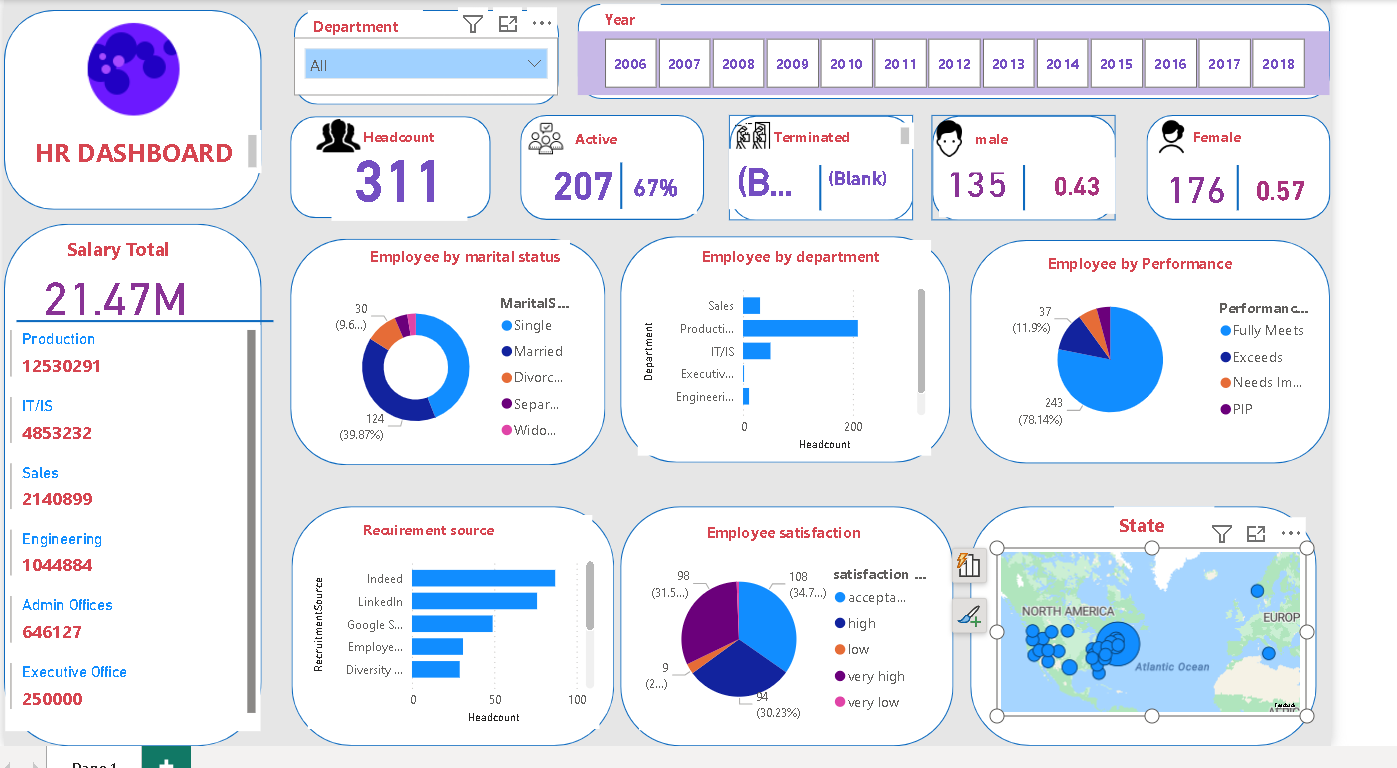

This screenshot's page, from the dashboard's own definition file:
{"tool":"powerbi","page":{"name":"Page 1","canvas":[1280,720],"ordinal":0},"visuals":[{"type":"shape","box":[0,10,248.6,192.9],"z":0},{"type":"shape","box":[0,215.7,248.6,504.3],"z":1000},{"type":"shape","box":[275.7,230,304.3,218.6],"z":2000},{"type":"shape","box":[594.3,228.6,318.6,218.6],"z":3000},{"type":"shape","box":[595,488.3,321.7,231.7],"z":4000},{"type":"shape","box":[277.1,488.6,311.4,231.4],"z":5000},{"type":"shape","box":[932.9,231.4,347.1,215.7],"z":6000},{"type":"shape","box":[932.9,488.6,334.3,231.4],"z":7000},{"type":"shape","box":[280,10,255.7,91.4],"z":8000},{"type":"shape","box":[554,4,726,92],"z":9000},{"type":"shape","box":[1102.5,111.2,177.5,101.2],"z":10000},{"type":"shape","box":[895,111.2,177.5,101.2],"z":11000},{"type":"shape","box":[700,111.2,177.5,101.2],"z":12000},{"type":"shape","box":[498.8,111.2,177.5,101.2],"z":13000},{"type":"shape","box":[276.7,111.7,193.3,98.3],"z":14000},{"type":"image","box":[61.7,8.3,126.7,116.7],"z":15000},{"type":"textbox","box":[25,125,223.3,41.7],"z":16000},{"type":"textbox","box":[292.9,10,111.4,30],"z":17000},{"type":"slicer","fields":{"Values":["HRData (2).Department"]},"box":[280,36.7,255,55],"z":18000},{"type":"textbox","box":[341.1,117.8,97.8,32.2],"z":19000},{"type":"textbox","box":[546.7,120,65.6,34.4],"z":20000},{"type":"card","fields":{"Values":["All measures.Active"]},"box":[523.3,146.7,71.7,58.3],"z":21000},{"type":"card","fields":{"Values":["All measures.active %"]},"box":[588.3,155,80,51.7],"z":22000},{"type":"textbox","box":[738.6,118.6,140,25.7],"z":23000},{"type":"textbox","box":[932.9,120,51.4,28.6],"z":24000},{"type":"textbox","box":[1142.9,118.6,60,30],"z":25000},{"type":"shape","box":[568.3,156.7,55,45],"z":26000},{"type":"card","fields":{"Values":["All measures.terminated %"]},"box":[788.3,145,73.3,56.7],"z":27000},{"type":"card","fields":{"Values":["All measures.MALE %"]},"box":[1000,151.4,72.9,54.3],"z":28000},{"type":"card","fields":{"Values":["All measures.FEMALE %"]},"box":[1196.7,161.7,71.7,43.3],"z":29000},{"type":"shape","box":[770,158.8,36.2,43.8],"z":30000},{"type":"shape","box":[966.2,158.8,36.2,43.8],"z":31000},{"type":"shape","box":[1172.5,158.8,36.2,43.8],"z":32000},{"type":"card","fields":{"Values":["All measures.male"]},"box":[902,162,74,48],"z":33000},{"type":"card","fields":{"Values":["All measures.FEMALE"]},"box":[1113.3,158.3,73.3,45],"z":34000},{"type":"donutChart","fields":{"Y":["All measures.Headcount"],"Category":["HRData (2).MaritalStatus"]},"box":[311.4,268.6,242.9,171.4],"z":35000},{"type":"textbox","box":[348.8,231.2,197.5,37.5],"z":36000},{"type":"textbox","box":[668.8,231.2,226.2,41.2],"z":37000},{"type":"textbox","box":[1002.5,238.8,208.8,30],"z":38000},{"type":"clusteredBarChart","fields":{"Y":["All measures.Headcount"],"Category":["HRData (2).Department"]},"box":[611.4,265.7,282.9,174.3],"z":39000},{"type":"pieChart","fields":{"Y":["All measures.Headcount"],"Category":["HRData (2).PerformanceScore"]},"box":[958.3,273.3,310,146.7],"z":40000},{"type":"textbox","box":[341.2,497.5,226.2,30],"z":41000},{"type":"clusteredBarChart","fields":{"Y":["All measures.Headcount"],"Category":["HRData (2).RecruitmentSource"]},"box":[293.3,528.3,281.7,175],"z":42000},{"type":"textbox","box":[673.3,498.3,205,30],"z":43000},{"type":"pieChart","fields":{"Y":["All measures.Headcount"],"Series":["HRData (2).satisfaction status"]},"box":[613.3,530,283.3,175],"z":44000},{"type":"textbox","box":[1071.7,488.3,96.7,40],"z":45000},{"type":"map","fields":{"Size":["All measures.Headcount"],"Category":["HRData (2).State"]},"box":[958.3,528.3,298.3,163.3],"z":46000},{"type":"card","fields":{"Values":["All measures.salary"]},"box":[11.7,253.3,190,60],"z":47000},{"type":"shape","box":[11.7,280,248.3,60],"z":48000},{"type":"multiRowCard","fields":{"Values":["All measures.salary","HRData (2).Department"]},"box":[1.7,313.3,246.7,391.7],"z":49000},{"type":"textbox","box":[575,3.3,58.3,30],"z":50000},{"type":"slicer","fields":{"Values":["HRData (2).Hiring Year"]},"box":[554.3,30,725.7,61.4],"z":51000},{"type":"card","fields":{"Values":["All measures.Headcount"]},"box":[315.7,145.7,131.4,67.1],"z":52000},{"type":"textbox","box":[55,221.7,140,43.3],"z":53000},{"type":"image","box":[1102.9,95.7,48.6,71.4],"z":54000},{"type":"image","box":[884.3,110,55.7,48.6],"z":55000},{"type":"image","box":[700,108.6,45.7,51.4],"z":56000},{"type":"card","fields":{"Values":["All measures.Terminated"]},"box":[700,143.3,70,58.3],"z":57000},{"type":"image","box":[498.9,111.1,47.8,46.7],"z":58000},{"type":"image","box":[296.7,104.4,52.2,53.3],"z":59000}]}

Visuals, with their boxes in screenshot pixels (x1, y1, x2, y2), scaled from the page's 1280x720 canvas onto the 1397x768 screenshot:
shape: 0/11/271/216
shape: 0/230/271/767
shape: 301/245/633/479
shape: 649/244/996/477
shape: 649/521/1000/767
shape: 302/521/642/767
shape: 1018/247/1396/477
shape: 1018/521/1383/767
shape: 306/11/585/108
shape: 605/4/1396/102
shape: 1203/119/1396/227
shape: 977/119/1171/227
shape: 764/119/958/227
shape: 544/119/738/227
shape: 302/119/513/224
image: 67/9/206/133
textbox: 27/133/271/178
textbox: 320/11/441/43
slicer - HRData (2).Department: 306/39/584/98
textbox: 372/126/479/160
textbox: 597/128/668/165
card - All measures.Active: 571/156/649/219
card - All measures.active %: 642/165/729/220
textbox: 806/127/959/154
textbox: 1018/128/1074/159
textbox: 1247/127/1313/159
shape: 620/167/680/215
card - All measures.terminated %: 860/155/940/215
card - All measures.MALE %: 1091/161/1171/219
card - All measures.FEMALE %: 1306/172/1384/219
shape: 840/169/880/216
shape: 1055/169/1094/216
shape: 1280/169/1319/216
card - All measures.male: 984/173/1065/224
card - All measures.FEMALE: 1215/169/1295/217
donutChart - All measures.Headcount x HRData (2).MaritalStatus: 340/287/605/469
textbox: 381/247/596/287
textbox: 730/247/977/291
textbox: 1094/255/1322/287
clusteredBarChart - All measures.Headcount x HRData (2).Department: 667/283/976/469
pieChart - All measures.Headcount x HRData (2).PerformanceScore: 1046/292/1384/448
textbox: 372/531/619/563
clusteredBarChart - All measures.Headcount x HRData (2).RecruitmentSource: 320/564/628/750
textbox: 735/532/959/564
pieChart - All measures.Headcount x HRData (2).satisfaction status: 669/565/979/752
textbox: 1170/521/1275/564
map - All measures.Headcount x HRData (2).State: 1046/564/1371/738
card - All measures.salary: 13/270/220/334
shape: 13/299/284/363
multiRowCard - All measures.salary x HRData (2).Department: 2/334/271/752
textbox: 628/4/691/36
slicer - HRData (2).Hiring Year: 605/32/1396/97
card - All measures.Headcount: 345/155/488/227
textbox: 60/236/213/283
image: 1204/102/1257/178
image: 965/117/1026/169
image: 764/116/814/171
card - All measures.Terminated: 764/153/840/215
image: 545/119/597/168
image: 324/111/381/168
